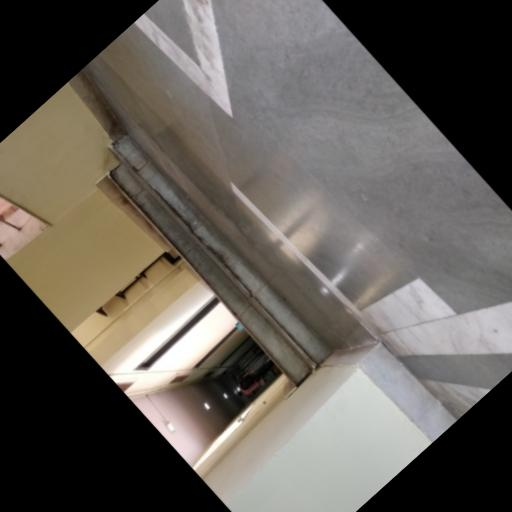stairs: (108, 134, 330, 383)
